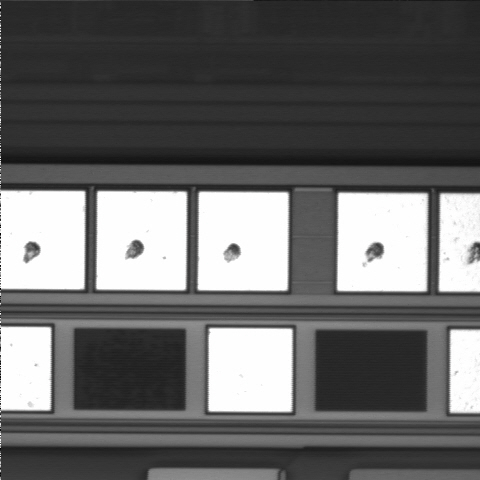pad: (96, 191, 187, 290), (198, 192, 288, 291), (337, 193, 427, 291), (209, 328, 292, 412)
